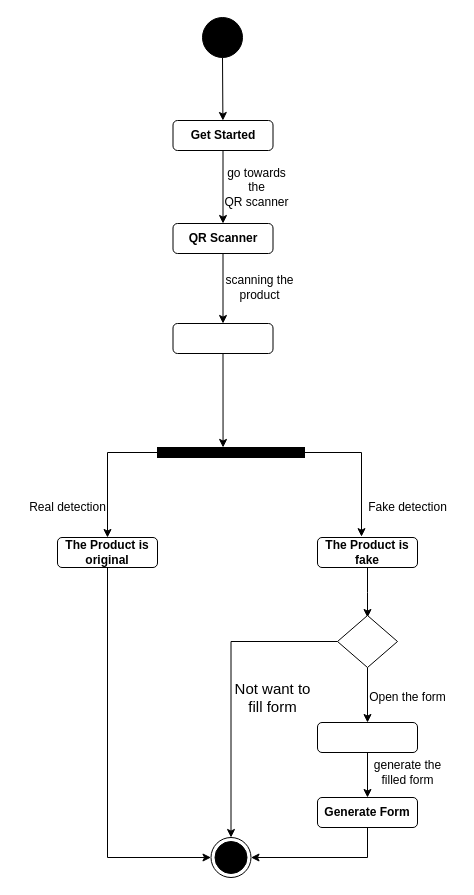
The diagram is 474 pixels wide and 895 high, and some of its shapes have lost their labels. Here are the shapes that lost their labels. From the top down, the centre of each, then its label:
At [222,338]: "Scanned the Product".
At [367,737]: "Report Form".
